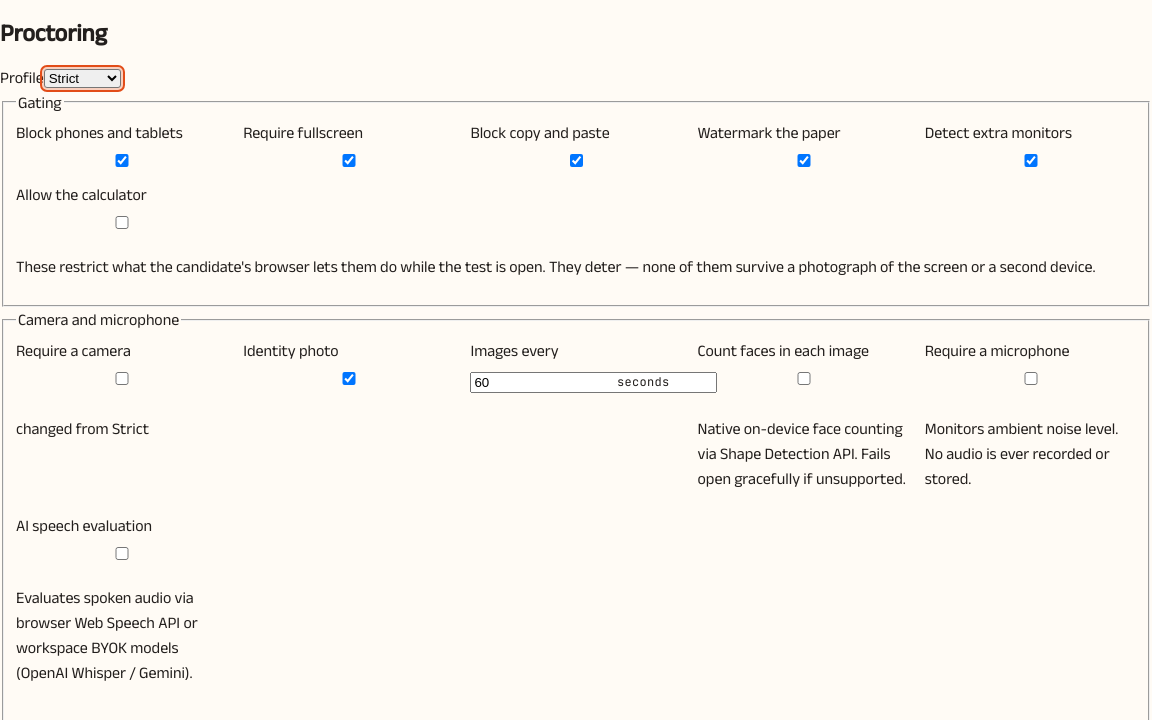
it: the profile rewrites the controls, visibly (Q8a) › the confirmation › the confirmation takes Escape, starts focused and gives focus back
The width and height of the screenshot is (1152, 720).
Select "Standard" in the dropdown labelled "Profile" at (82,78), box [44,69,121,88]
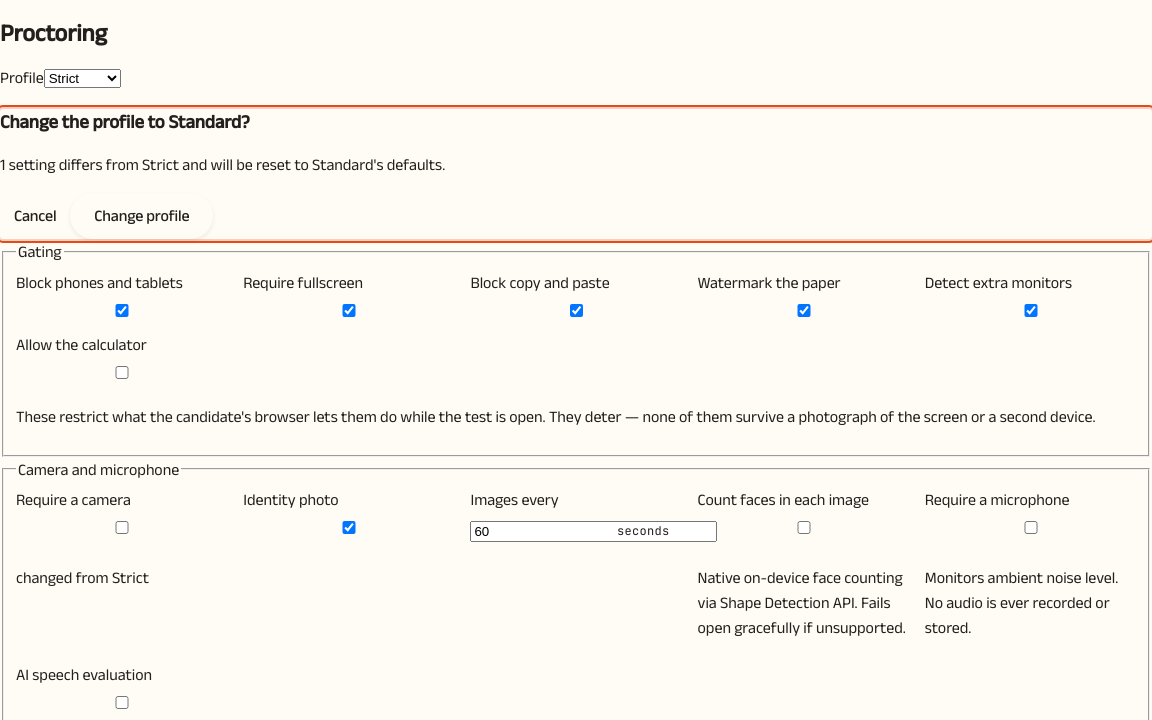
Press Escape in the dialog, box [0,108,1151,239]
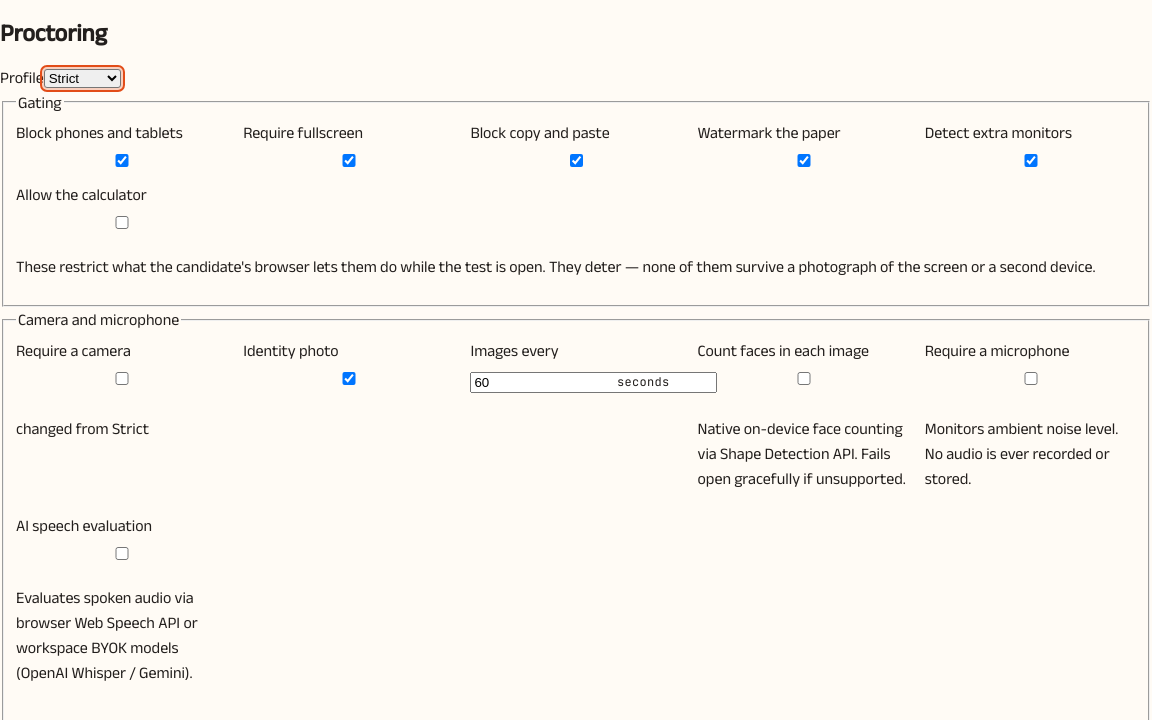
Result: the dialog is gone
